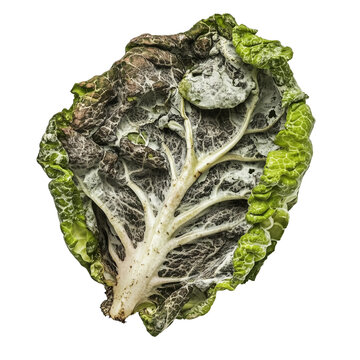lettuce rotten: (24, 9, 313, 328)
